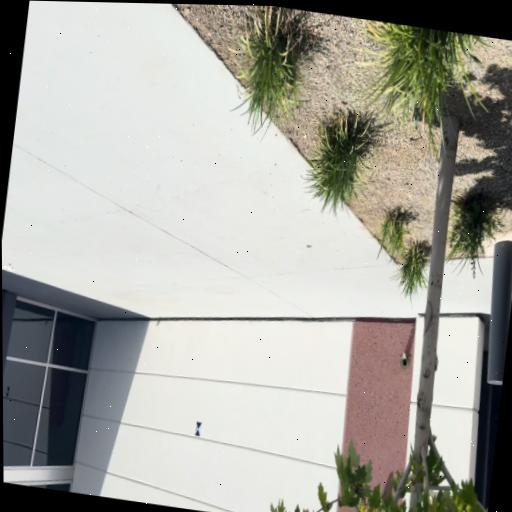target7: (194, 421, 202, 436)
